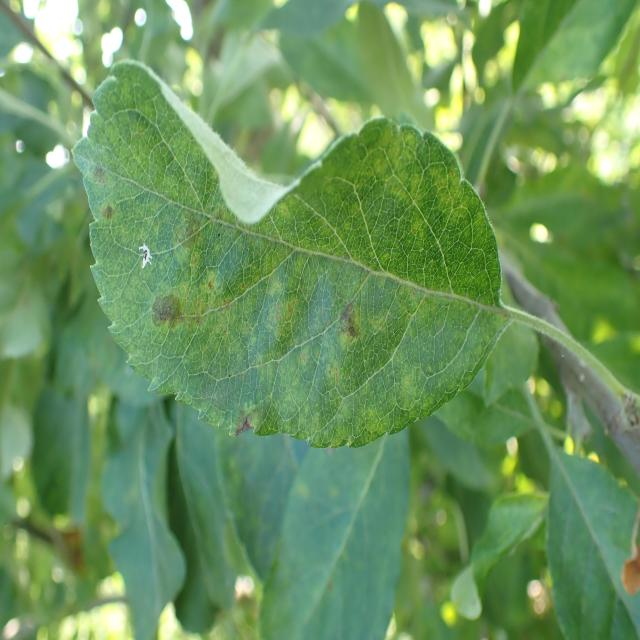scab: (82, 108, 506, 431)
